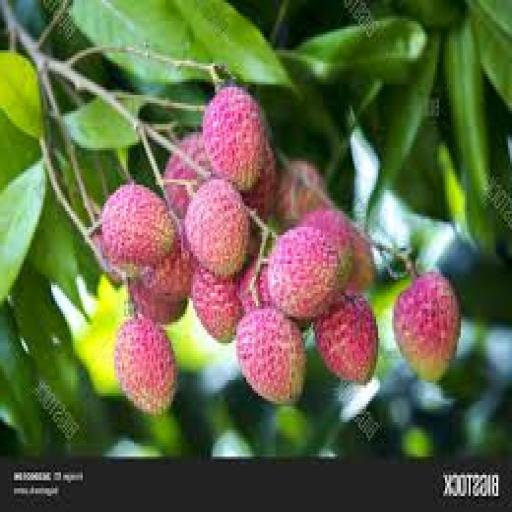lychee: (267, 227, 349, 319), (393, 272, 459, 380), (100, 185, 174, 274), (236, 307, 304, 403), (202, 85, 264, 190), (183, 180, 249, 277), (114, 320, 176, 414), (313, 293, 377, 382), (301, 209, 353, 290), (191, 267, 241, 343), (275, 159, 325, 226), (141, 238, 193, 298), (163, 154, 203, 219), (128, 280, 186, 324), (242, 146, 276, 219), (346, 225, 375, 292), (238, 262, 270, 311)
